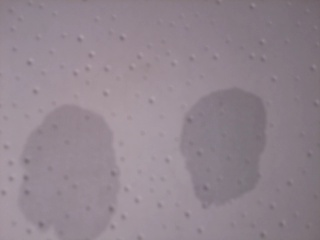Water_detected: (29, 124, 107, 223), (181, 103, 239, 184)
